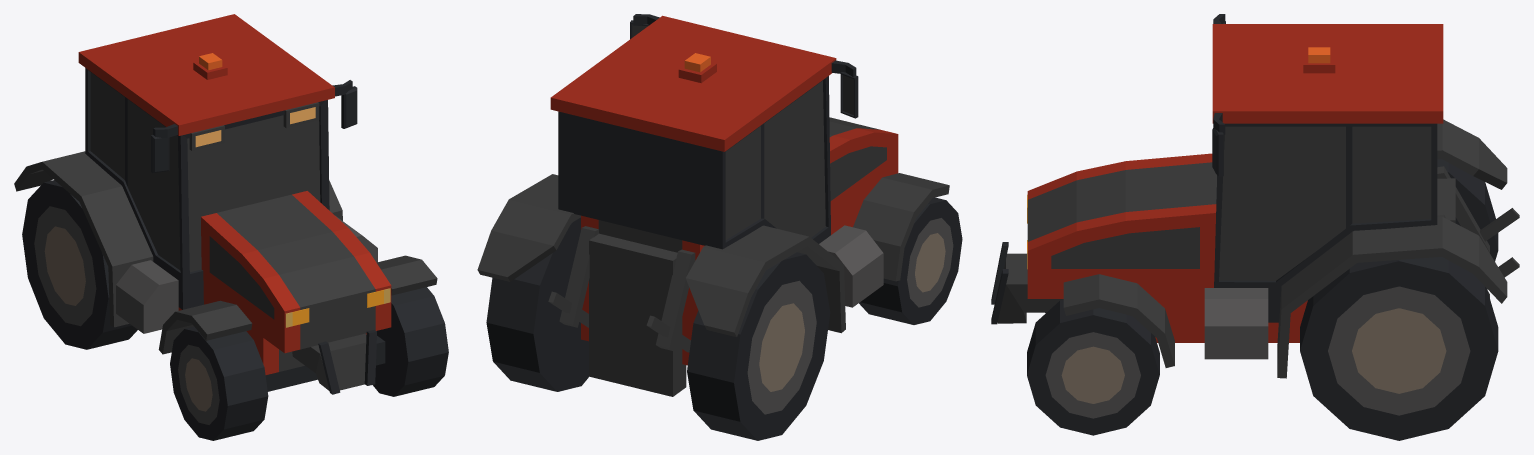
Rendered from Tractor_3.fbx.
3 views of the same model, side by side, from view 1: azimuth 30°, elevation 25°; view 2: azimuth 150°, elevation 25°; view 3: azimuth 270°, elevation 25° (orthographic). The views are drawn at different scales.
Parts seen in each view (by area): view 1: Tractor_3, TractorFrontWheels_3, TractorBackWheels_3; view 2: Tractor_3, TractorBackWheels_3, TractorFrontWheels_3; view 3: Tractor_3, TractorBackWheels_3, TractorFrontWheels_3.
Part boxes in pixels (bbox=[...]): Tractor_3: bbox=[14, 14, 437, 394]; TractorFrontWheels_3: bbox=[170, 287, 448, 440]; TractorBackWheels_3: bbox=[22, 180, 137, 349]; Tractor_3: bbox=[477, 14, 949, 396]; TractorBackWheels_3: bbox=[486, 217, 830, 440]; TractorFrontWheels_3: bbox=[859, 197, 962, 324]; Tractor_3: bbox=[991, 14, 1519, 378]; TractorBackWheels_3: bbox=[1300, 159, 1498, 440]; TractorFrontWheels_3: bbox=[1027, 299, 1159, 435].
Bounding box in the file's own units: 243 × 283 × 414.
